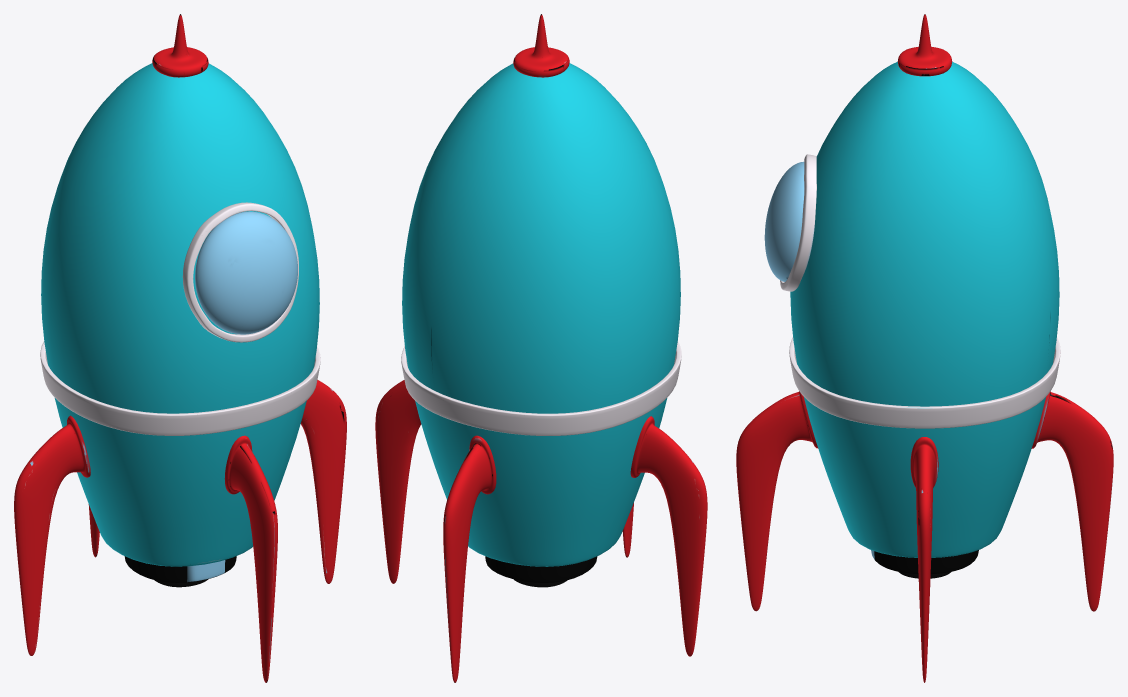
The model's file is rocket.glb.
3 renders of one model, left to right at view 1: azimuth 30°, elevation 25°; view 2: azimuth 150°, elevation 25°; view 3: azimuth 270°, elevation 25°, orthographic.
Parts seen in each view (by area): view 1: Object_2.002; view 2: Object_2.002; view 3: Object_2.002.
Boxes of the visible parts, left/top/right/bottom form: Object_2.002: left=14, top=14, right=346, bottom=682; Object_2.002: left=375, top=14, right=707, bottom=682; Object_2.002: left=736, top=14, right=1113, bottom=682.
Size of the model in its own units: 2.73 by 4.78 by 2.73.
2 materials, 2 textured.
